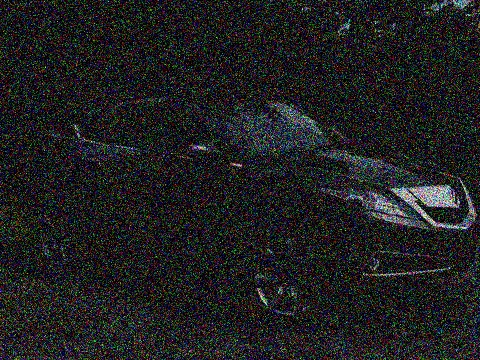car: (19, 85, 478, 331)
